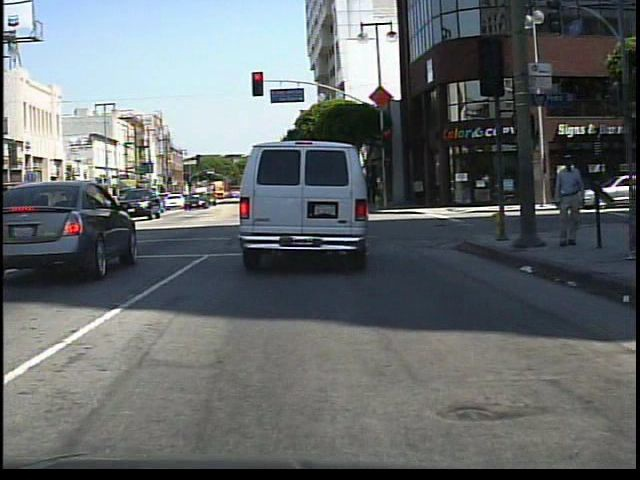person: (552, 153, 594, 252)
